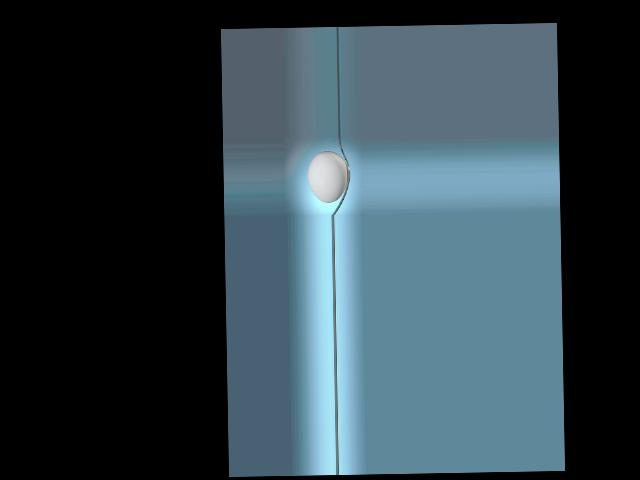egg: (308, 150, 348, 202)
